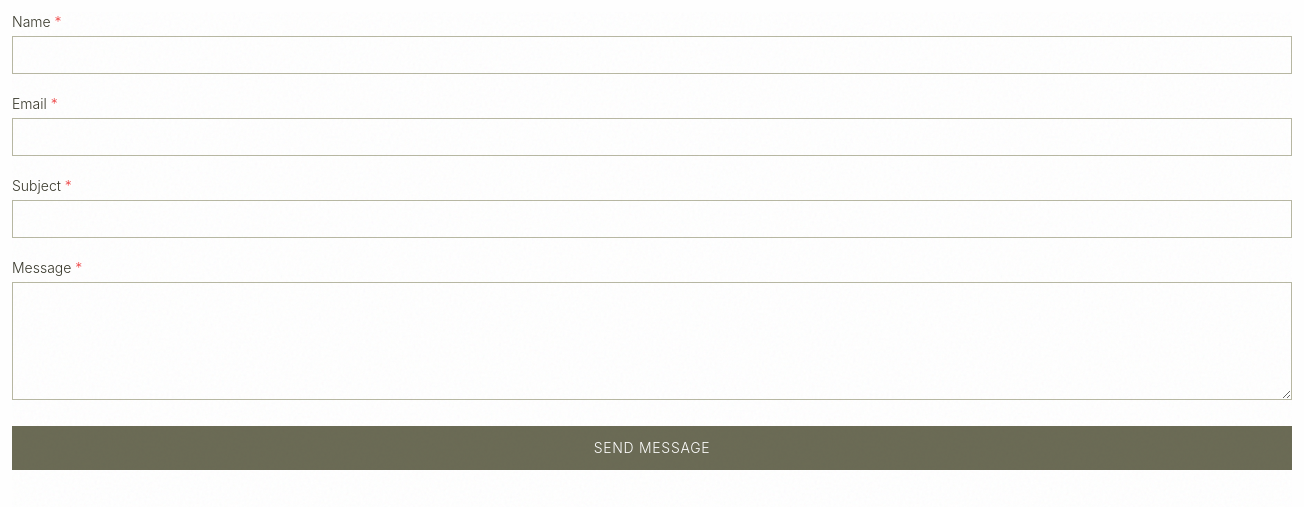
it: ContactForm – unit tests › shows email error for invalid email format
Type "Jane Doe" into the field labelled "Name *" at point(652, 55), box left=12, top=36, right=1292, bottom=74
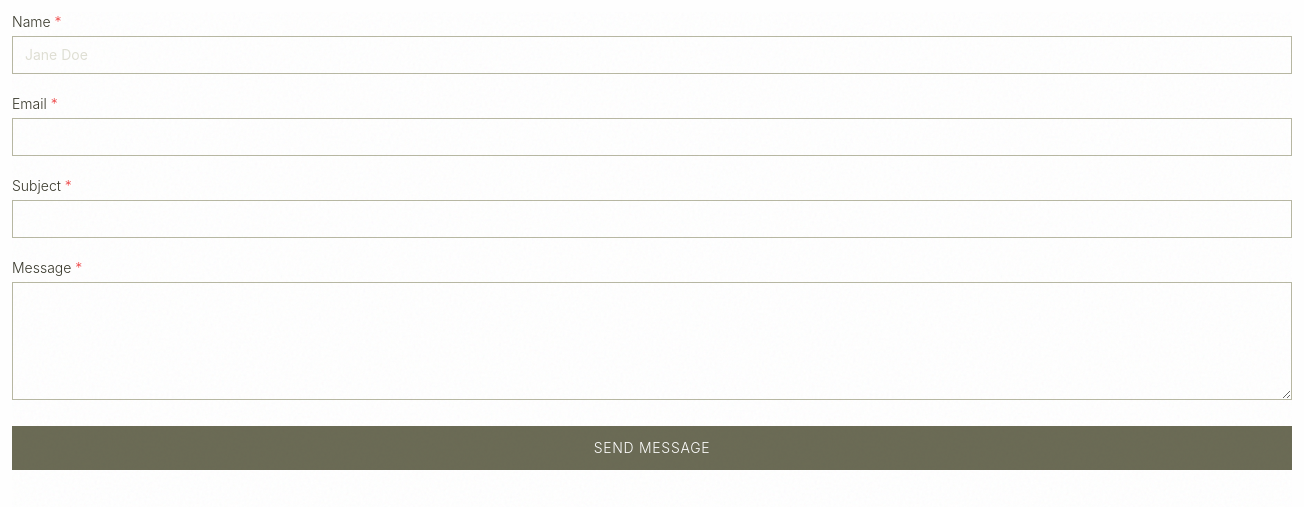
Type "notanemail" into the field labelled "Email *" at point(652, 137), box left=12, top=118, right=1292, bottom=156
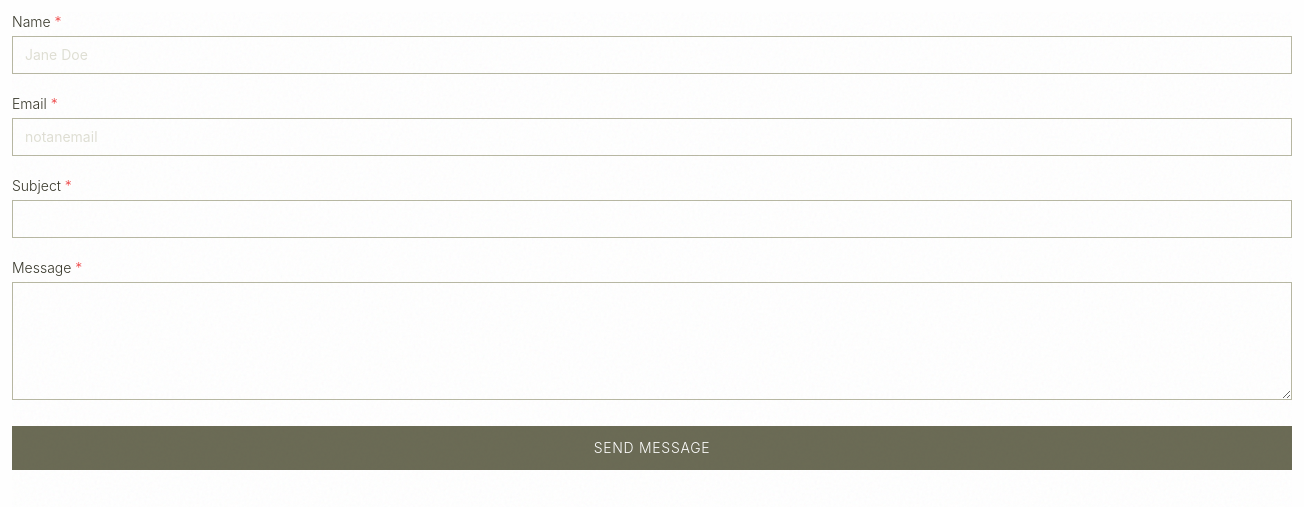
Type "Hello" into the field labelled "Subject *" at point(652, 219), box left=12, top=200, right=1292, bottom=238
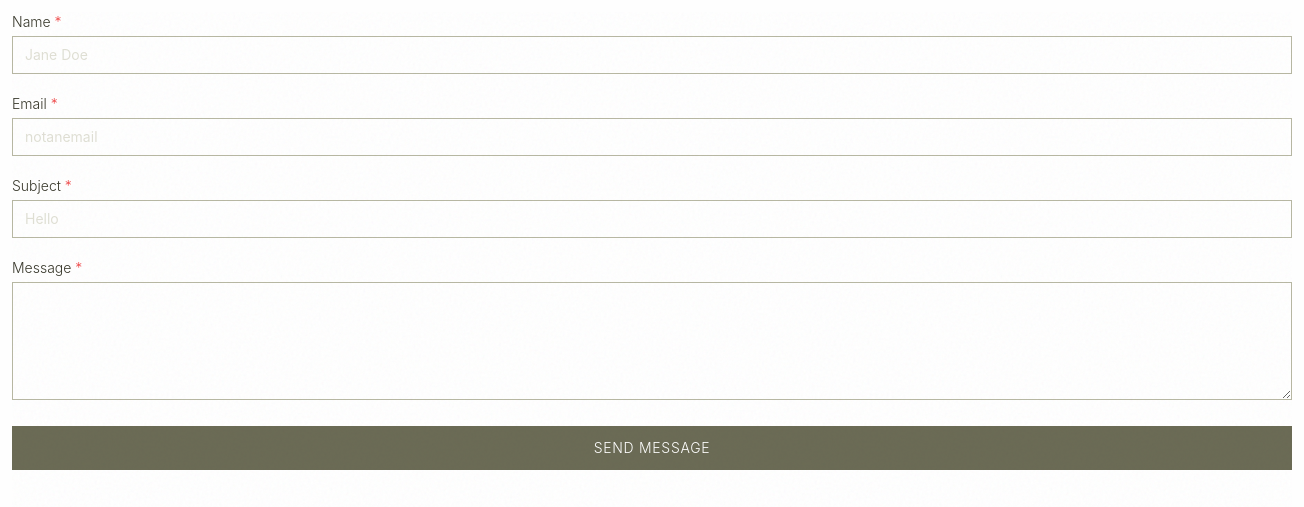
Type "Test message" into the text box labelled "Message *" at point(652, 341), box left=12, top=282, right=1292, bottom=400
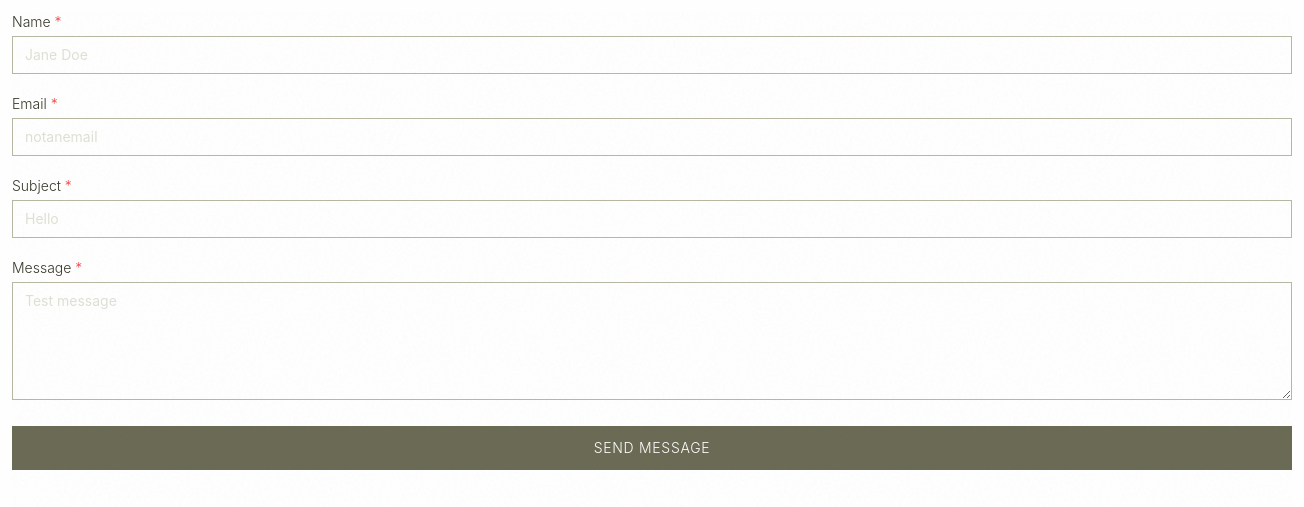
Click the button "Send Message" at point(652, 448), box left=12, top=426, right=1292, bottom=470
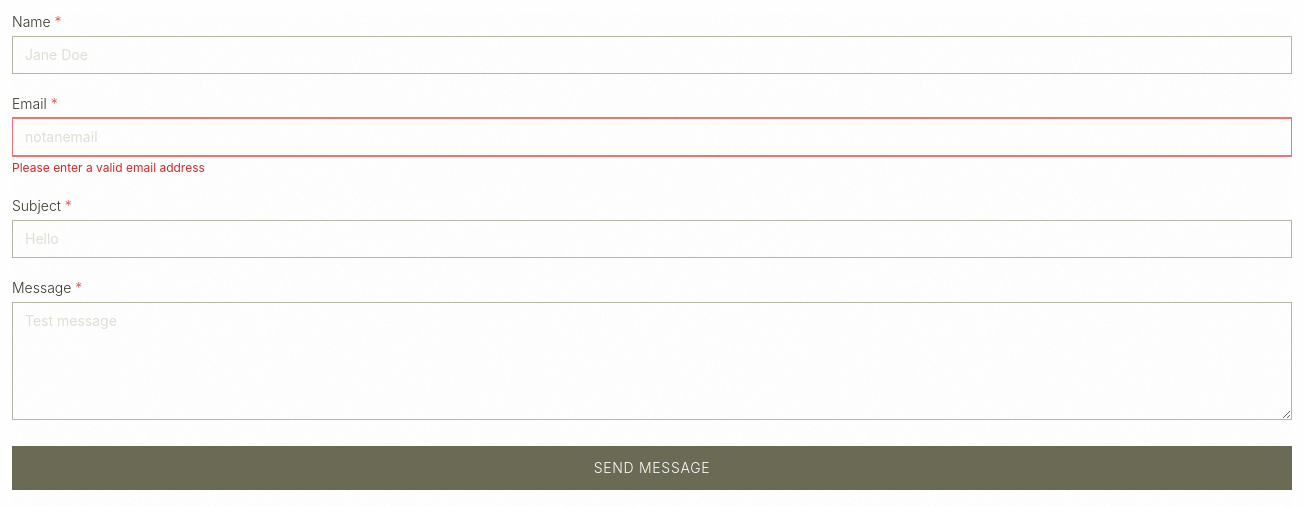
expect the message "Please enter a valid email address" is shown: met, box left=12, top=160, right=205, bottom=175
